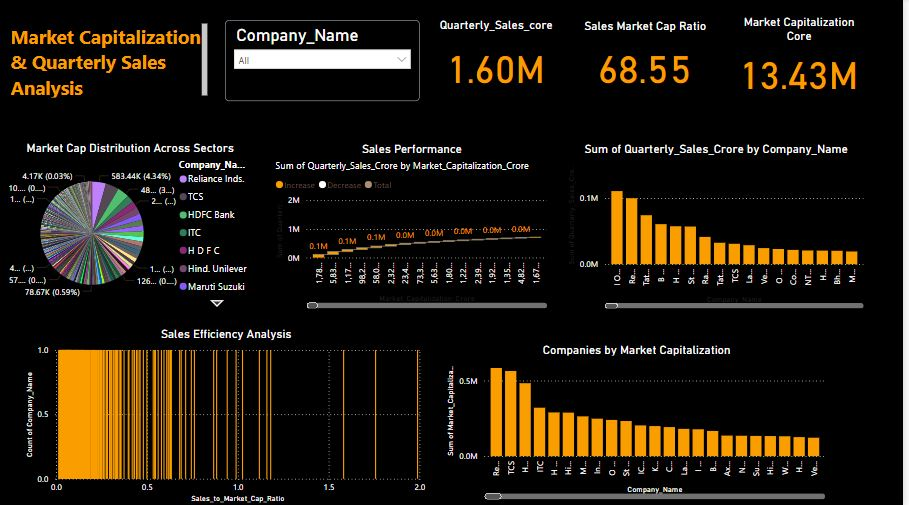

What the dashboard file says about the page in this screenshot:
{"tool":"powerbi","page":{"name":"Page 1","canvas":[1280,720],"ordinal":0},"visuals":[{"type":"textbox","box":[11.3,29.8,289.1,114.8],"z":0},{"type":"slicer","fields":{"Values":["Financial_Analytics_Analysis.Company_Name"]},"box":[320.3,29.8,276.4,114.8],"z":2000},{"type":"card","title":"Market Capitalization Core","fields":{"Values":["Sum(Financial_Analytics_Analysis.Market_Capitalization_Crore)"]},"box":[1031.8,18.4,202.7,129],"z":3000},{"type":"card","title":"Quarterly_Sales_core","fields":{"Values":["Sum(Financial_Analytics_Analysis.Quarterly_Sales_Crore)"]},"box":[610.9,22.7,185.7,121.9],"z":4000},{"type":"card","title":"Sales Market Cap Ratio","fields":{"Values":["Sum(Financial_Analytics_Analysis.Sales_to_Market_Cap_Ratio)"]},"box":[809.3,22.7,211.2,121.9],"z":5000},{"type":"waterfallChart","title":"Sales Performance","fields":{"Category":["Financial_Analytics_Analysis.Market_Capitalization_Crore"],"Y":["Sum(Financial_Analytics_Analysis.Quarterly_Sales_Crore)"]},"box":[383,198.7,403.2,249.1],"z":7000},{"type":"lineStackedColumnComboChart","title":"Sales Efficiency Analysis","fields":{"Category":["Financial_Analytics_Analysis.Sales_to_Market_Cap_Ratio"],"Y":["CountNonNull(Financial_Analytics_Analysis.Company_Name)"]},"box":[31.2,463.5,579.7,256.5],"z":8000},{"type":"lineClusteredColumnComboChart","title":"Companies by Market Capitalization","fields":{"Category":["Financial_Analytics_Analysis.Company_Name"],"Y":["Sum(Financial_Analytics_Analysis.Market_Capitalization_Crore)"]},"box":[623.6,480.5,558.4,239.5],"z":9000},{"type":"clusteredColumnChart","fields":{"Category":["Financial_Analytics_Analysis.Company_Name"],"Y":["Sum(Financial_Analytics_Analysis.Quarterly_Sales_Crore)"]},"box":[796.5,198.4,438,249.4],"z":10000},{"type":"pieChart","title":"Market Cap Distribution Across Sectors","fields":{"Category":["Financial_Analytics_Analysis.Company_Name"],"Y":["Sum(Financial_Analytics_Analysis.Market_Capitalization_Crore)"]},"box":[0,197,369.9,250.9],"z":10001}]}

Visuals, with their boxes in screenshot pixels (x1, y1, x2, y2), scaled from the page's 1280x720 canvas onto the 909x505 screenshot:
textbox: [x1=8, y1=21, x2=213, y2=101]
slicer - Financial_Analytics_Analysis.Company_Name: [x1=227, y1=21, x2=424, y2=101]
"Market Capitalization Core" card: [x1=733, y1=13, x2=877, y2=103]
"Quarterly_Sales_core" card: [x1=434, y1=16, x2=566, y2=101]
"Sales Market Cap Ratio" card: [x1=575, y1=16, x2=725, y2=101]
"Sales Performance" waterfallChart: [x1=272, y1=139, x2=558, y2=314]
"Sales Efficiency Analysis" lineStackedColumnComboChart: [x1=22, y1=325, x2=434, y2=504]
"Companies by Market Capitalization" lineClusteredColumnComboChart: [x1=443, y1=337, x2=839, y2=504]
clusteredColumnChart - Financial_Analytics_Analysis.Company_Name x Sum(Financial_Analytics_Analysis.Quarterly_Sales_Crore): [x1=566, y1=139, x2=877, y2=314]
"Market Cap Distribution Across Sectors" pieChart: [x1=0, y1=138, x2=263, y2=314]
